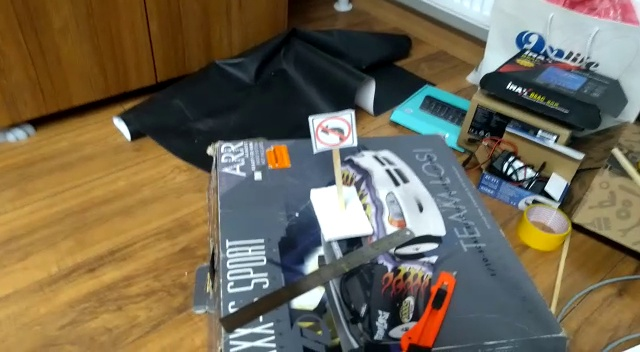sola_donulmez: (315, 114, 351, 149)
